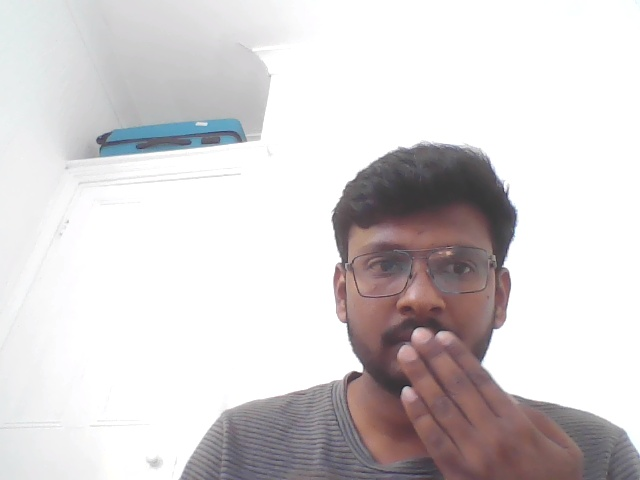Thank You: (312, 313, 600, 480)
